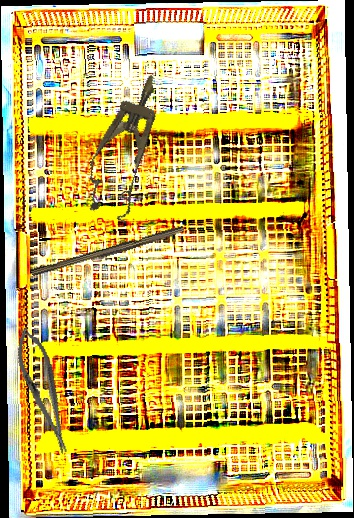Needle Holder: (8, 323, 79, 459)
Scalpel Handle: (30, 223, 186, 281)
Speculum: (75, 66, 178, 225)
